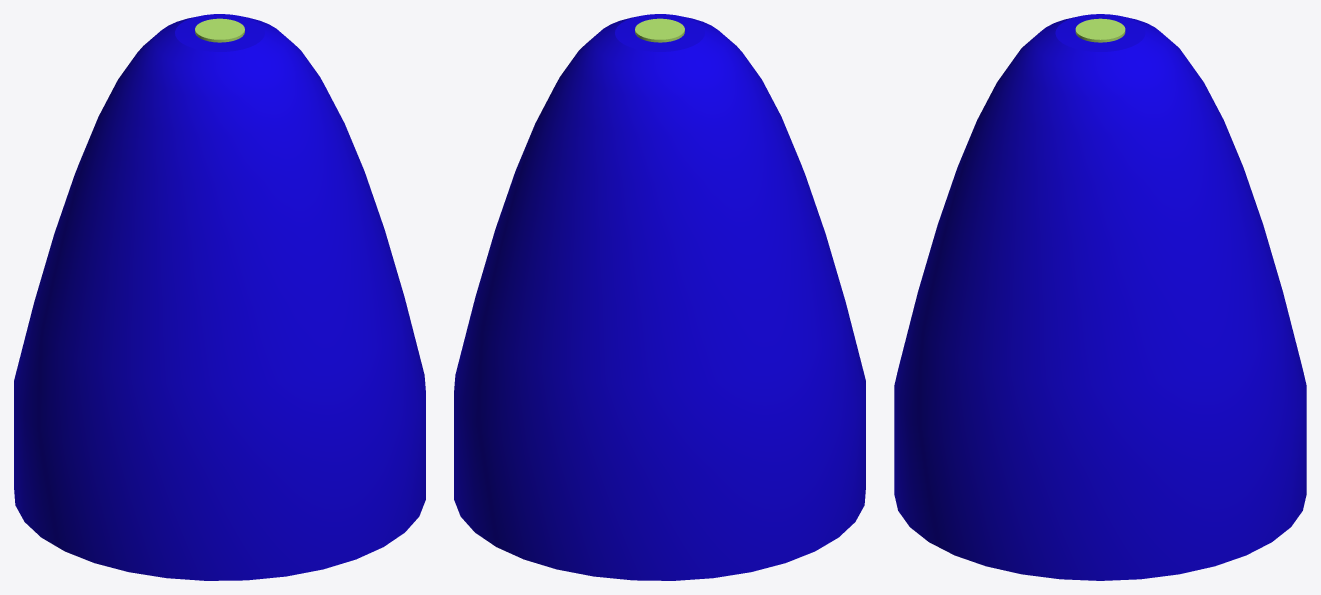
File: SM_safetyzone.fbx
3 renders of one model, left to right at view 1: azimuth 30°, elevation 25°; view 2: azimuth 150°, elevation 25°; view 3: azimuth 270°, elevation 25°, orthographic.
Visible parts, largest first — view 1: Cylinder; view 2: Cylinder; view 3: Cylinder.
Boxes of the visible parts, x1,y1,x2,y2 form: Cylinder: (14, 14, 425, 580); Cylinder: (454, 14, 865, 580); Cylinder: (894, 14, 1306, 580).
Size of what is drawn, in the model's own units: 429 by 533 by 429.
